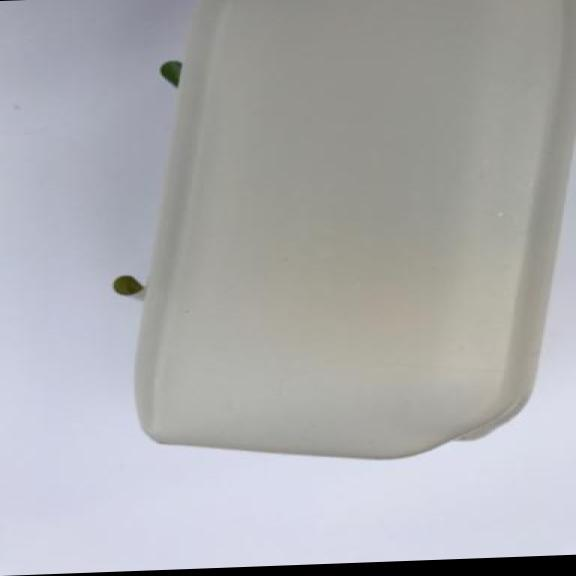Plastik: (111, 0, 576, 471)
